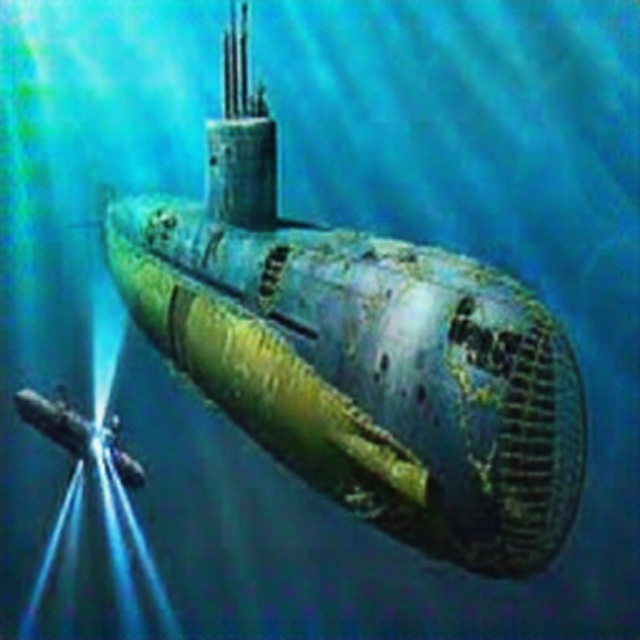submarine: (83, 0, 594, 587), (12, 372, 157, 547)
